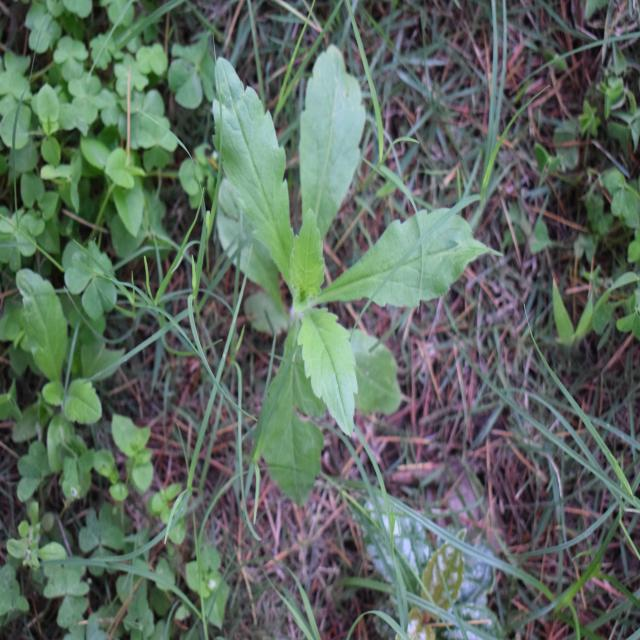horseweed: (198, 47, 464, 440)
